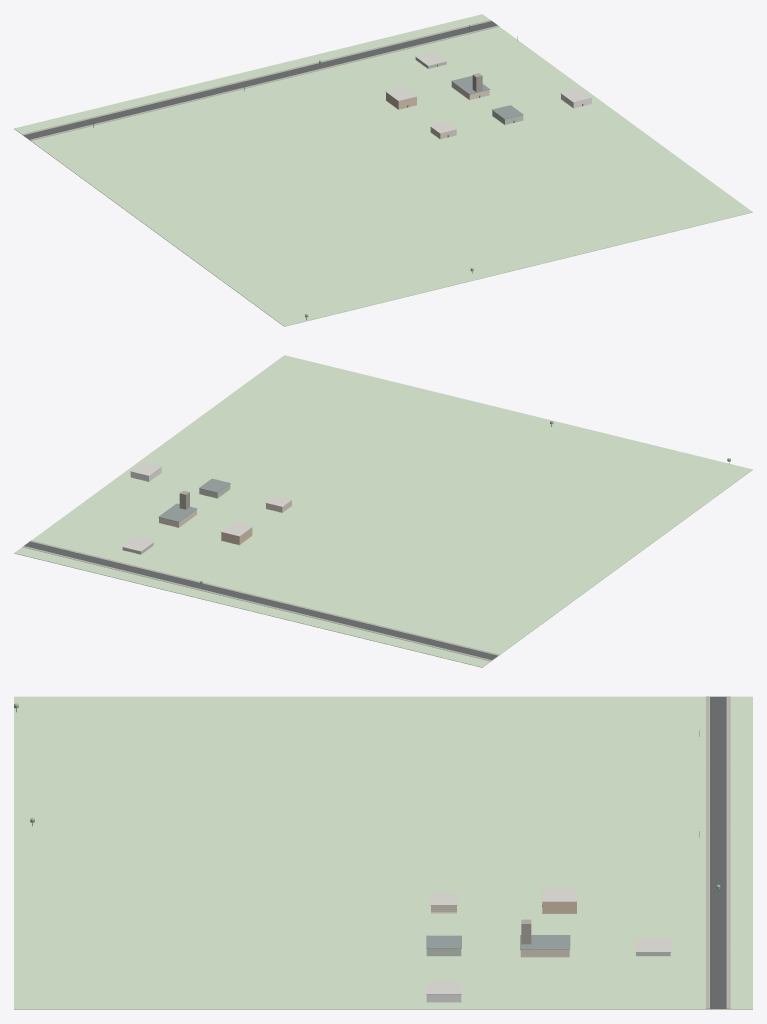
The model's file is chunk_1_2_low.glb.
The picture shows the model from 3 angles, top to bottom: view 1: azimuth 30°, elevation 25°; view 2: azimuth 150°, elevation 25°; view 3: azimuth 270°, elevation 25°; orthographic projection. The views are drawn at different scales.
Visible parts, largest first — view 1: city_grass, city_world_asphalt, city_world_sidewalk, city_roof_tile, city_curb, city_roof_slate; view 2: city_grass, city_world_asphalt, city_world_sidewalk, city_roof_tile, city_curb, city_roof_slate; view 3: city_grass, city_world_asphalt, city_world_sidewalk, city_roof_tile, city_roof_slate, city_curb, city_wall_cream.
Part boxes in pixels (x1,y1,x2,y2): city_grass: (14,14,752,326); city_world_asphalt: (24,21,497,139); city_world_sidewalk: (22,20,499,140); city_roof_tile: (385,52,591,133); city_curb: (23,21,495,138); city_roof_slate: (451,76,523,119); city_grass: (14,355,752,667); city_world_asphalt: (24,541,497,659); city_world_sidewalk: (22,540,499,661); city_roof_tile: (122,462,291,551); city_curb: (24,541,497,660); city_roof_slate: (158,478,230,521); city_grass: (14,696,752,1009); city_world_asphalt: (710,696,726,1008); city_world_sidewalk: (706,696,730,1008); city_roof_tile: (426,889,671,994); city_roof_slate: (426,935,570,949); city_curb: (706,696,729,1008); city_wall_cream: (431,905,569,956).
Bounding box in the file's own units: 512 × 22.42 × 512.
